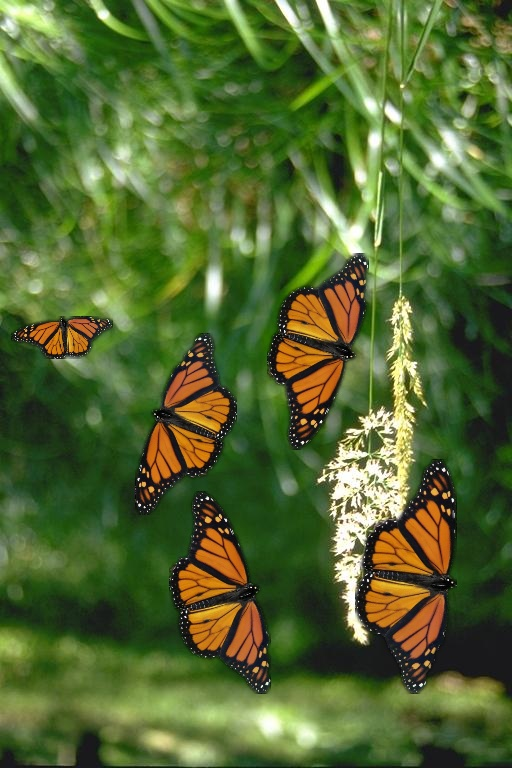danaus_plexippus: (355, 459, 457, 694), (169, 491, 271, 694), (267, 253, 369, 450), (135, 333, 237, 515), (11, 316, 113, 359)
